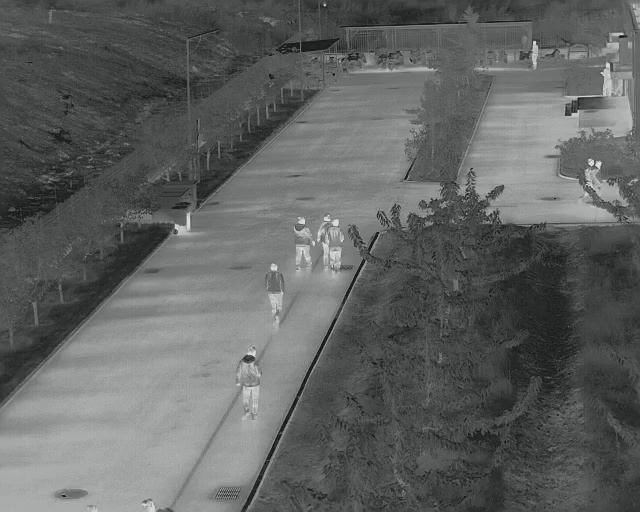person: (235, 346, 264, 423), (264, 264, 287, 327), (292, 215, 316, 270), (322, 213, 344, 269), (585, 157, 602, 186), (600, 61, 613, 98), (531, 38, 541, 68)
